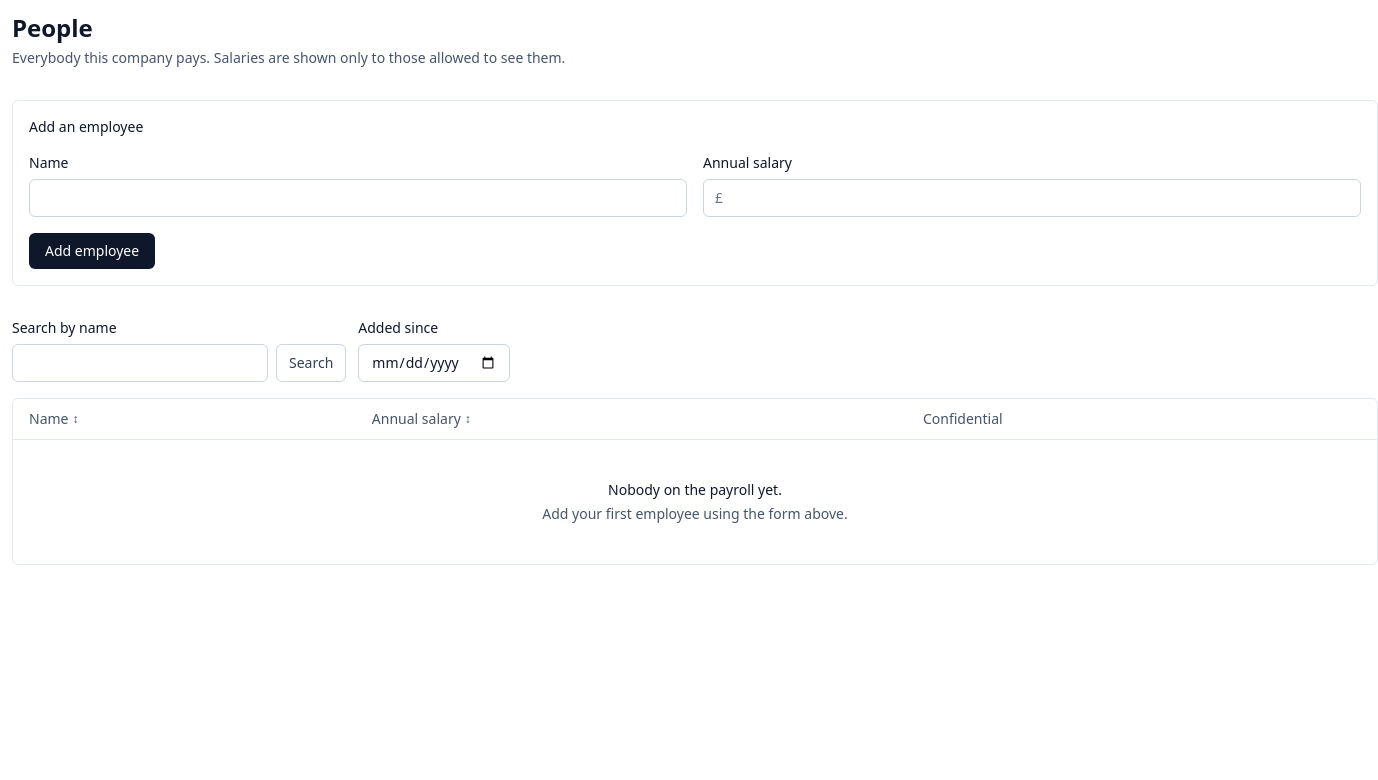
Scenario: EmployeesPage › adding somebody › sends the amount as exact text and refreshes the list
Type "Ada Okafor" into the field labelled "Name" at (358, 198), box [29,179,687,217]
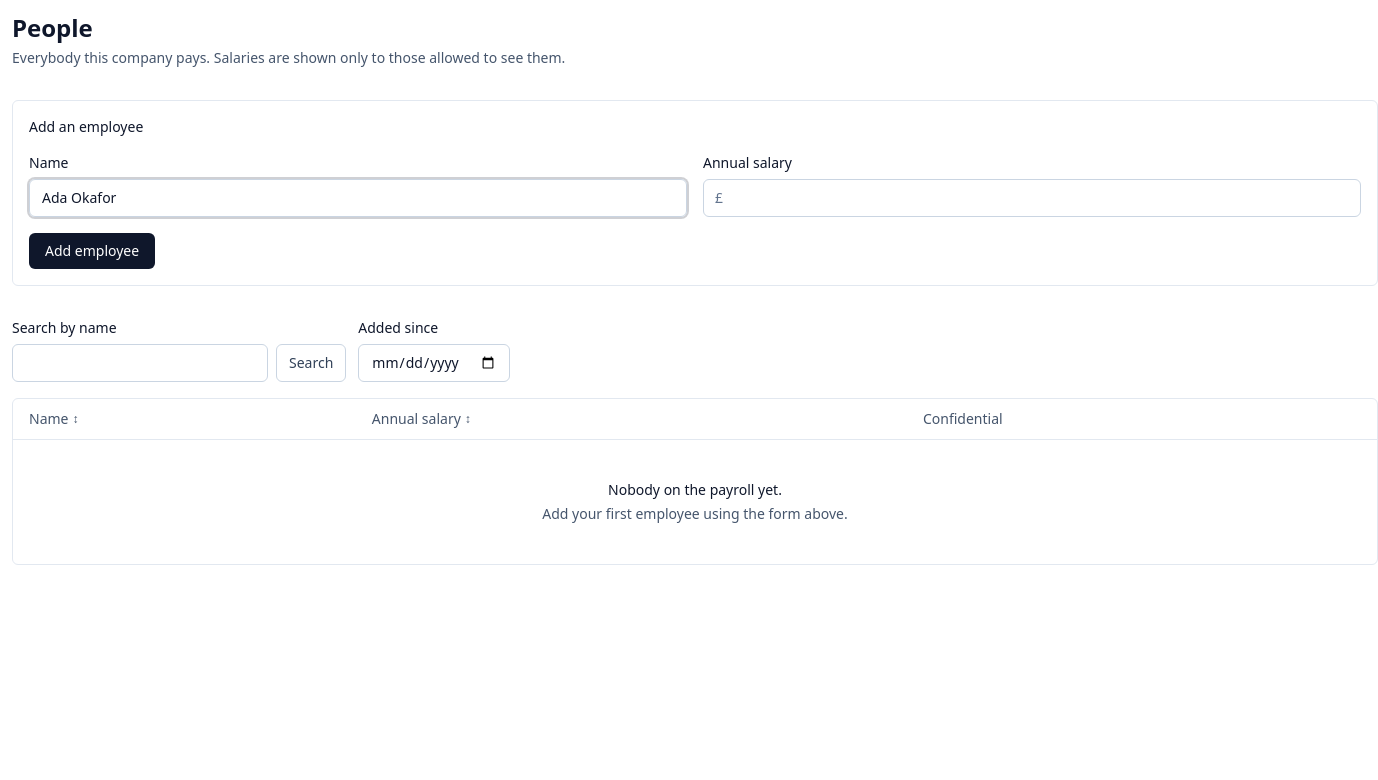
Type "48000.10" into the field labelled "Annual salary" at (1032, 198), box [703,179,1361,217]
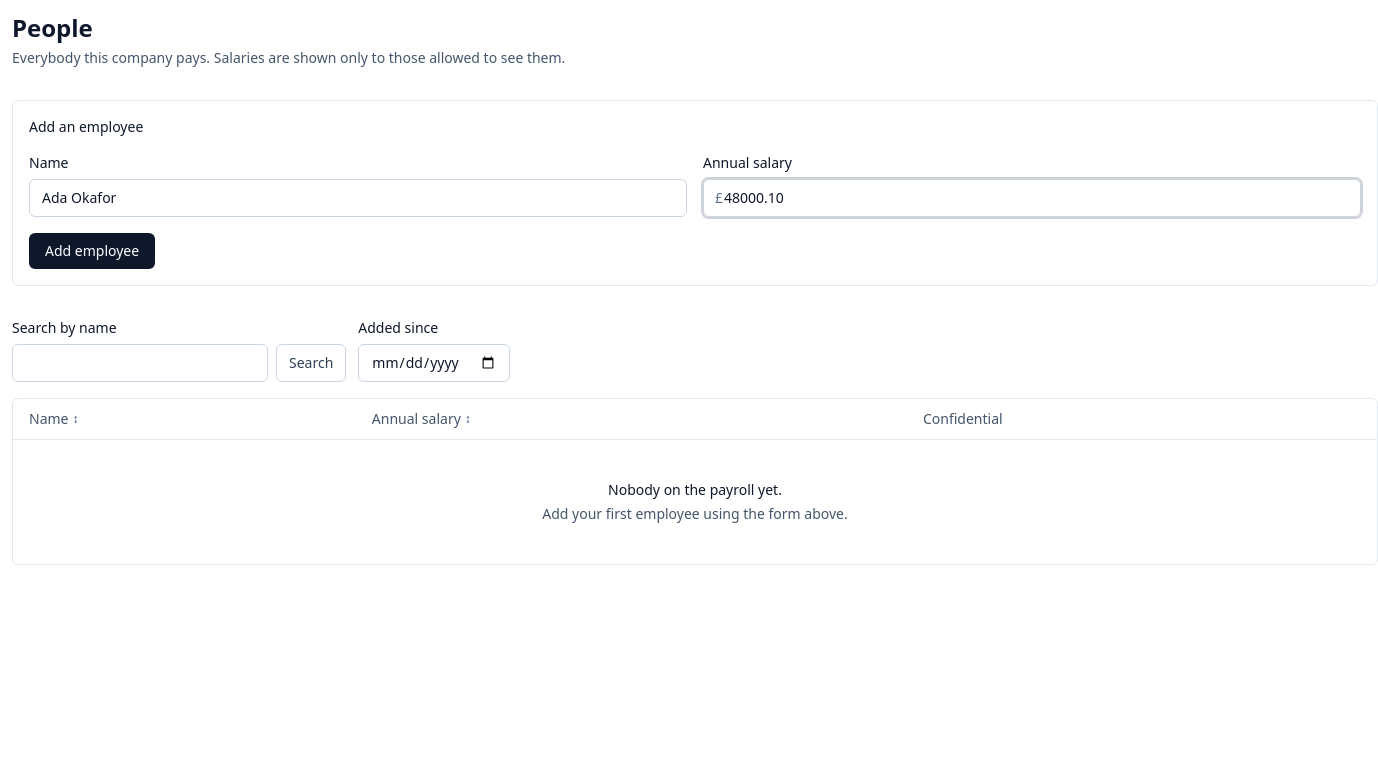
Click the button "Add employee" at (92, 251), box [29,233,155,269]
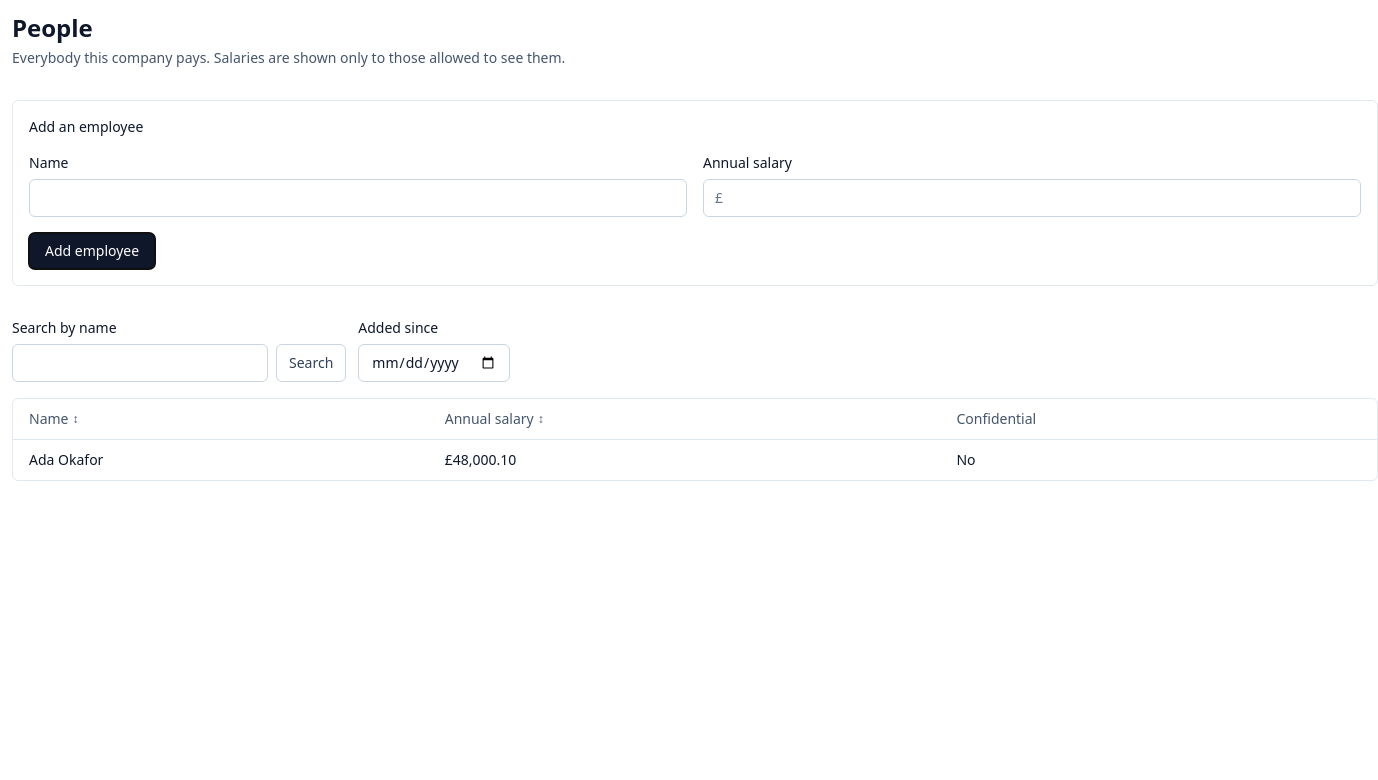
Expected: the text "Ada Okafor" is shown, [13,440,429,480]
